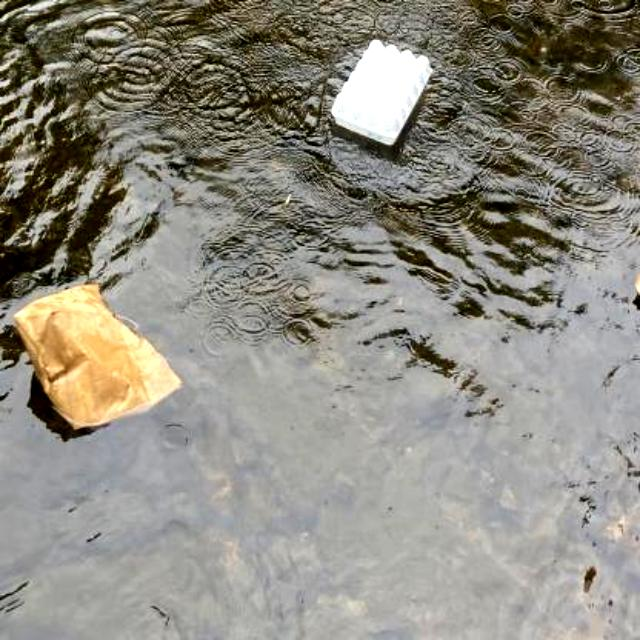Paper: (8, 272, 188, 440)
Plastic: (321, 30, 441, 152)
